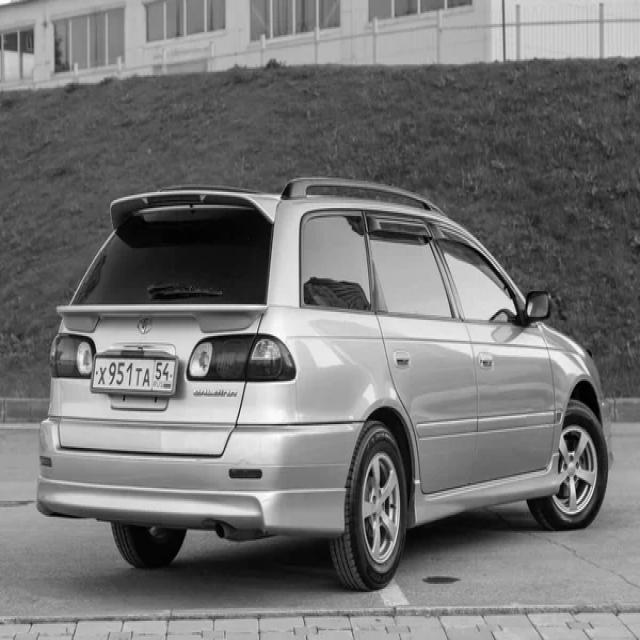Car: (35, 178, 611, 591)
